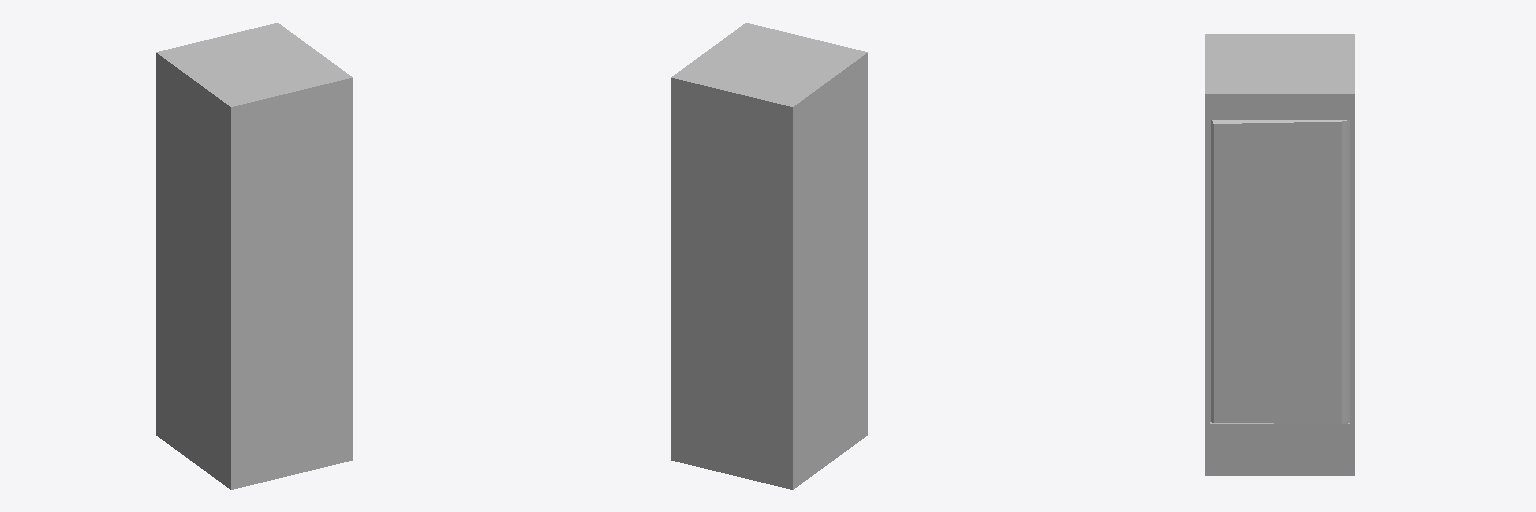
The model's file is Safe01_1.obj.
3 renders of one model, left to right at view 1: azimuth 30°, elevation 25°; view 2: azimuth 150°, elevation 25°; view 3: azimuth 270°, elevation 25°, orthographic.
Parts seen in each view (by area): view 1: Safe01_1_LOD0_Plane.038; view 2: Safe01_1_LOD0_Plane.038; view 3: Safe01_1_LOD0_Plane.038.
Boxes of the visible parts, x1=… form: Safe01_1_LOD0_Plane.038: x1=156, y1=23, x2=352, y2=489; Safe01_1_LOD0_Plane.038: x1=671, y1=23, x2=867, y2=489; Safe01_1_LOD0_Plane.038: x1=1205, y1=34, x2=1354, y2=475.
Bounding box in the file's own units: 0.5742 × 1.68 × 0.5973.